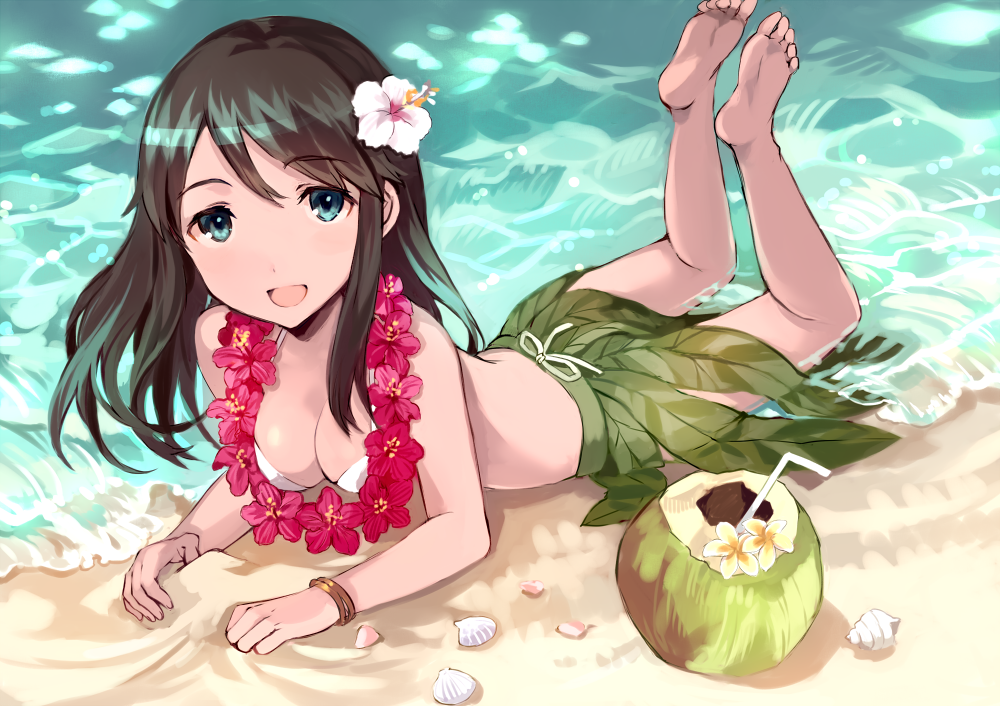纸片人正脸: (125, 26, 413, 335)
